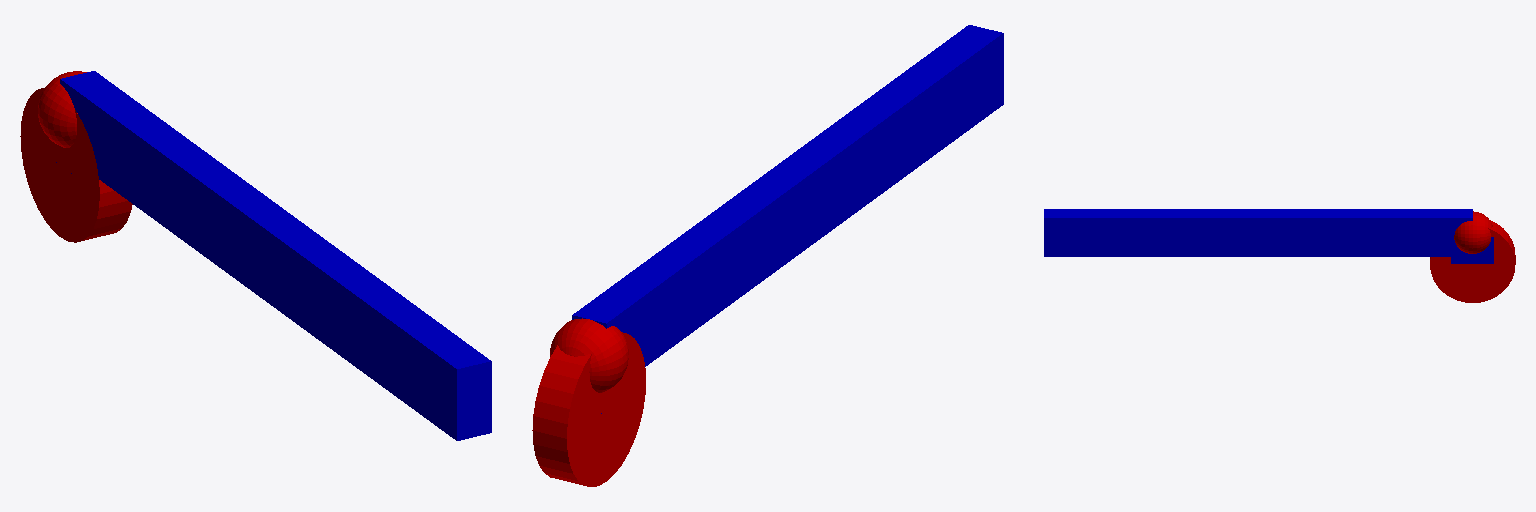
URDF robot description (TwoLinkStruct5317731722):
<?xml version="1.0"?>
<robot  name="TwoLinkStruct5317731722" >
 <material  name="blue" >
  <color  rgba="0 0 0.8 1.0" />
 </material>
 <material  name="red" >
  <color  rgba="0.8 0 0 1.0" />
 </material>
 <link  name="base_link" >
  <visual >
   <origin  rpy="0 1.5707 0"  xyz="0 0 0" />
   <material  name="red" />
   <geometry >
    <cylinder  length="0.05"  radius="0.1" />
   </geometry>
  </visual>
 </link>
 <joint  type="revolute"  name="joint1" >
  <parent  link="base_link" />
  <child  link="link1" />
  <origin  xyz="0 0 0"  rpy="0 0 0" />
  <axis  xyz="1 0 0" />
 </joint>
 <link  name="link1" >
  <inertial >
   <origin  rpy="0 0 0"  xyz="0 0 0.034942580326555554" />
   <mass  value="0.13179961667310686" />
   <inertia  ixy="0.0"  iyy="5.4916506947127866e-05"  izz="8.109999100820386e-05"  ixz="0.0"  ixx="8.109999100820386e-05"  iyz="0.0" />
  </inertial>
  <visual >
   <origin  rpy="0 0 0"  xyz="0 0 0.034942580326555554" />
   <material  name="blue" />
   <geometry >
    <box  size="0.05 0.1 0.06988516065311111" />
   </geometry>
  </visual>
 </link>
 <joint  type="fixed"  name="joint-joint-1" >
  <parent  link="link1" />
  <child  link="joint-link-1" />
  <origin  xyz="0 0 0.06988516065311111"  rpy="1.5707 0 0" />
  <axis  xyz="1 0 0" />
 </joint>
 <link  name="joint-link-1" >
  <inertial >
   <origin  rpy="0 0 0"  xyz="0 0 0" />
   <mass  value="2.116102943271055" />
   <inertia  ixy="0"  iyy="0"  izz="0"  ixz="0"  ixx="0"  iyz="0" />
  </inertial>
  <visual >
   <origin  rpy="0 0 0"  xyz="0 0 0" />
   <material  name="red" />
   <geometry >
    <sphere  radius="0.05" />
   </geometry>
  </visual>
 </link>
 <joint  type="revolute"  name="joint2" >
  <parent  link="link1" />
  <child  link="link2" />
  <origin  xyz="0 0 0.06988516065311111"  rpy="1.5707 0 0" />
  <axis  xyz="1 0 0" />
 </joint>
 <link  name="link2" >
  <inertial >
   <origin  rpy="0 0 0"  xyz="0 0 0.5" />
   <mass  value="3.800516366958618" />
   <inertia  ixy="0.0"  iyy="5.4916506947127866e-05"  izz="0.011010759642899133"  ixz="0.0"  ixx="0.011010759642899133"  iyz="0.0" />
  </inertial>
  <visual >
   <origin  rpy="0 0 0"  xyz="0 0 0.5" />
   <material  name="blue" />
   <geometry >
    <box  size="0.05 0.1 1.0" />
   </geometry>
  </visual>
 </link>
 <joint  type="fixed"  name="eef_joint" >
  <parent  link="link2" />
  <child  link="eef" />
  <origin  xyz="0 0 1.0"  rpy="0 0 0" />
 </joint>
 <link  name="eef" >
  <inertial >
   <origin  rpy="0 0 0"  xyz="0 0 0" />
   <mass  value="1" />
   <inertia  ixy="0"  iyy="0"  izz="0"  ixz="0"  ixx="0"  iyz="0" />
  </inertial>
 </link>
 <transmission  name="motor1" >
  <type  xmltext="SimpleTransmission" >
   SimpleTransmission
  </type>
  <actuator  name="motor1" >
   <mechanicalreduction  xmltext="1" >
    1
   </mechanicalreduction>
  </actuator>
  <joint  name="joint1" />
 </transmission>
 <transmission  name="motor2" >
  <type  xmltext="SimpleTransmission" >
   SimpleTransmission
  </type>
  <actuator  name="motor2" >
   <mechanicalreduction  xmltext="1" >
    1
   </mechanicalreduction>
  </actuator>
  <joint  name="joint2" />
 </transmission>
</robot>

<!-- {'carti': array([-0.1 ,  0.14,  0.85]), 'cartd': array([-0.1 ,  0.32,  1.29]), 'tau_mu': 0.6287178891273255, 'b0': 0.07437346125840656, 'Km': 2.5980445905806935, 'k_velocity': 30.948583292852565, 'tau_max_m': 3.625410781819659, 'omega_max_m': 1191.0676171608675, 'gear_ratio': 0.1, 'Kp': 20.436445253492014, 'Kd': 92.50080830175605, 'm_m': 2.116102943271055, 'l1': 0.06988516065311111, 'l2': 1.0, 'k1': 16866.084934818322, 'k2': 237569405.37385073, 'k3': 197413314.22753233}-->

--- Render facts (derived) ---
Views: 3 orthographic renders of the robot side by side, from view 1: azimuth 30°, elevation 25°; view 2: azimuth 150°, elevation 25°; view 3: azimuth 270°, elevation 25°.
Robot: TwoLinkStruct5317731722 — 5 links, 4 joints (2 revolute, 2 fixed); root link base_link; default pose: every joint at zero.
Visible links, largest first — view 1: link2, base_link, joint-link-1; view 2: link2, base_link, joint-link-1; view 3: link2, base_link, joint-link-1.
Boxes of the visible links, x1,y1,x2,y2 form: link2: (60,71,491,440); base_link: (20,88,132,242); joint-link-1: (38,71,86,147); link2: (572,25,1003,366); base_link: (532,332,645,486); joint-link-1: (550,318,628,392); link2: (1044,209,1472,256); base_link: (1430,220,1515,302); joint-link-1: (1454,211,1492,253).
Size in the robot's own frame: 0.1 by 1.1 by 0.22 metres.
Geometry: primitives only (box / cylinder / sphere), no mesh files.
